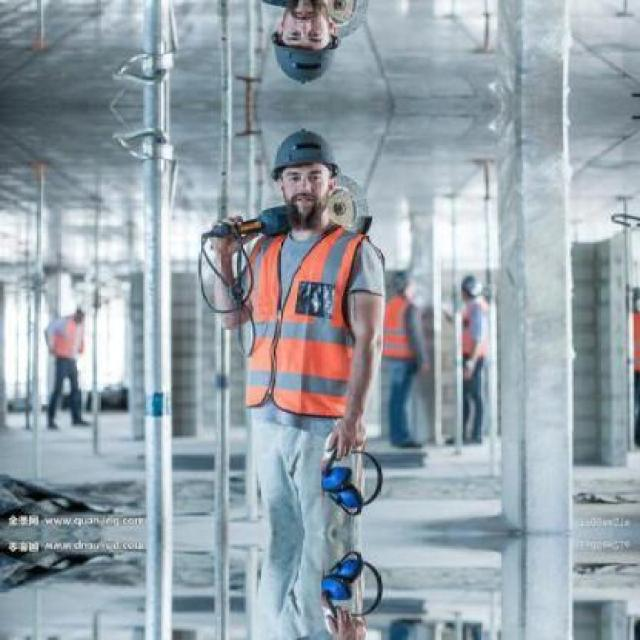helmet: (268, 130, 337, 180), (388, 266, 412, 298), (458, 272, 484, 298), (75, 301, 94, 313)
